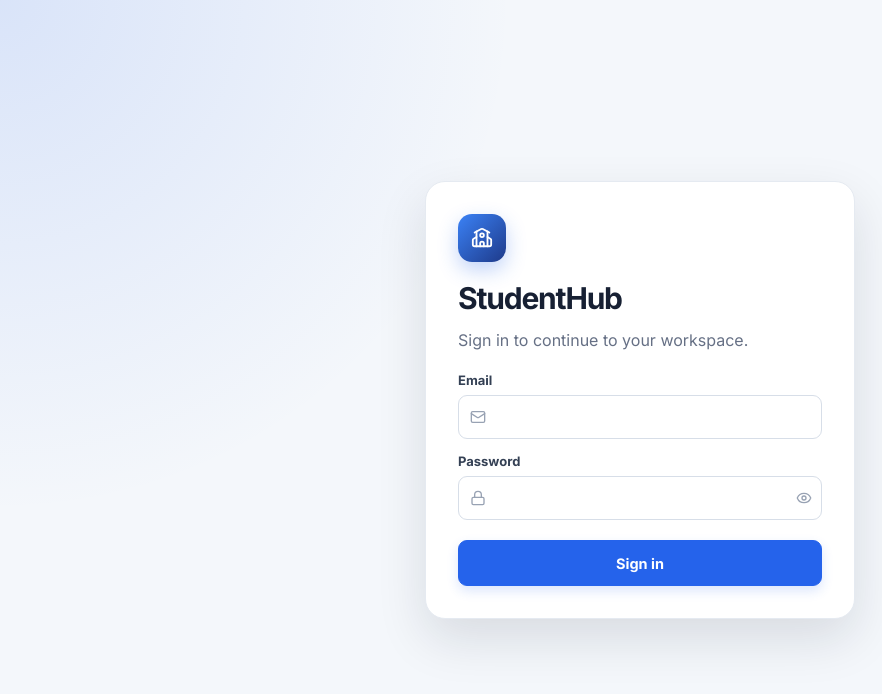
it: LoginPage › shows a server error message when login fails and does not crash
Type "locked@studenthub.test" into the field labelled "Email".
click(640, 417); type("locked@studenthub.test")  # box [458,395,822,439]
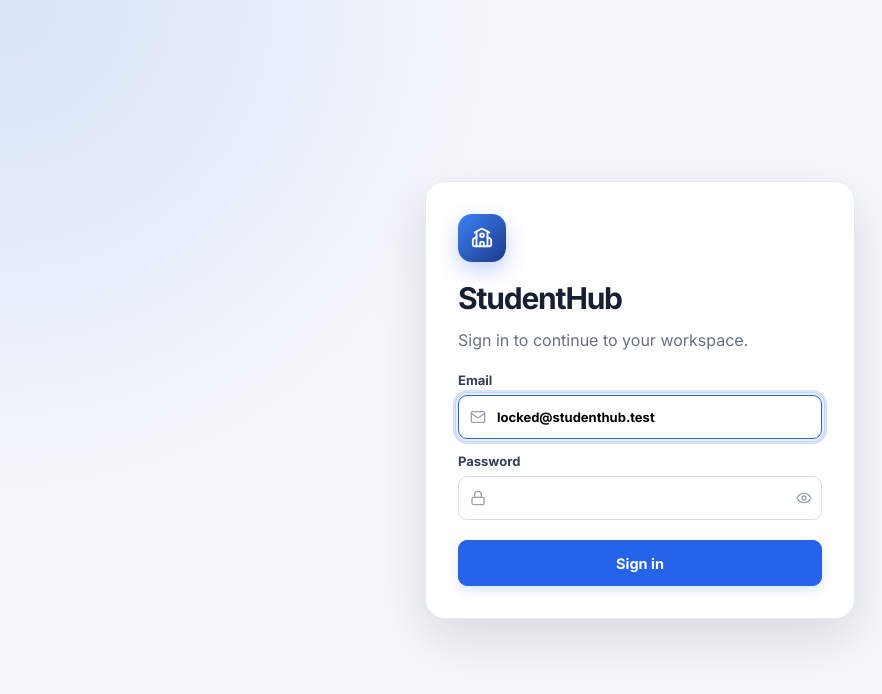
Type "StrongPassword123!" into the password field labelled "Password".
click(640, 498); type("StrongPassword123!")  # box [458,476,822,520]
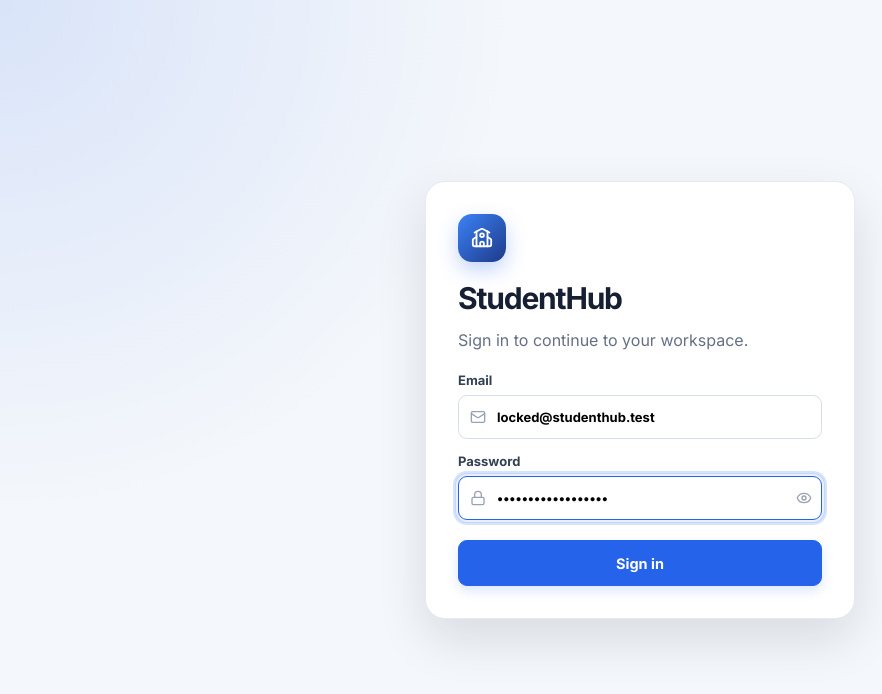
Click the button "Sign in".
click(640, 563)  # box [458,540,822,586]
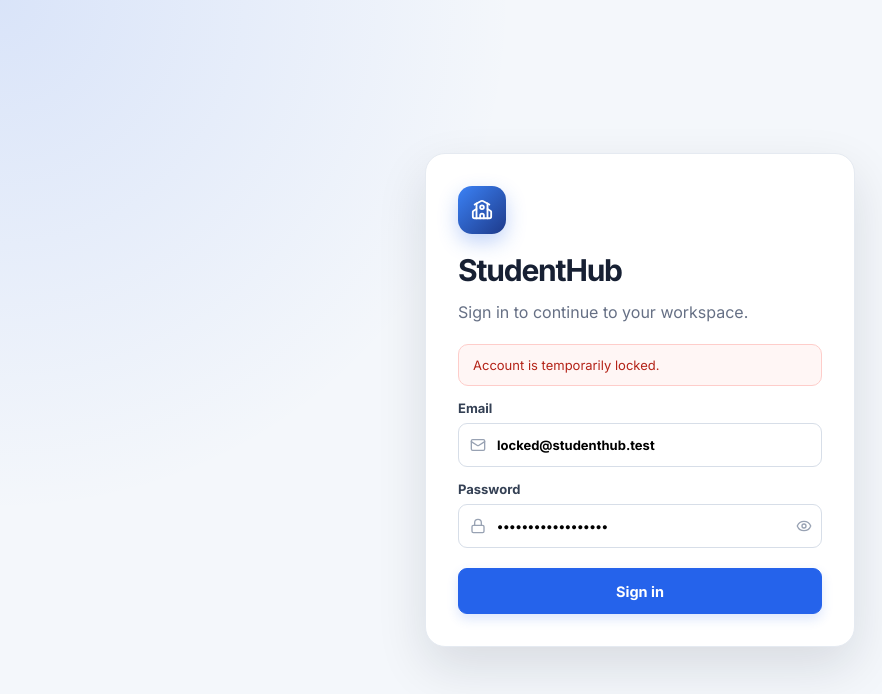
Result: the text "Account is temporarily locked." is shown at [458,344,822,386]
